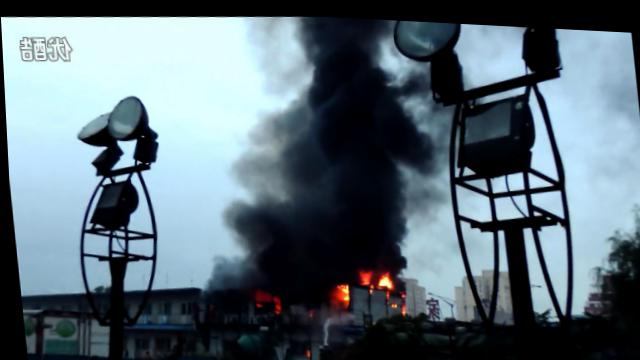fire: (332, 280, 349, 302), (374, 267, 392, 285), (356, 264, 371, 282)
